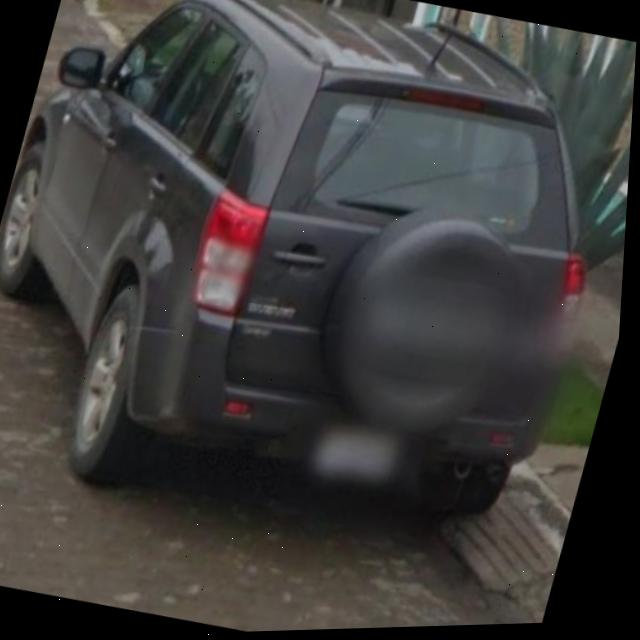vehicle: (0, 0, 640, 576)
